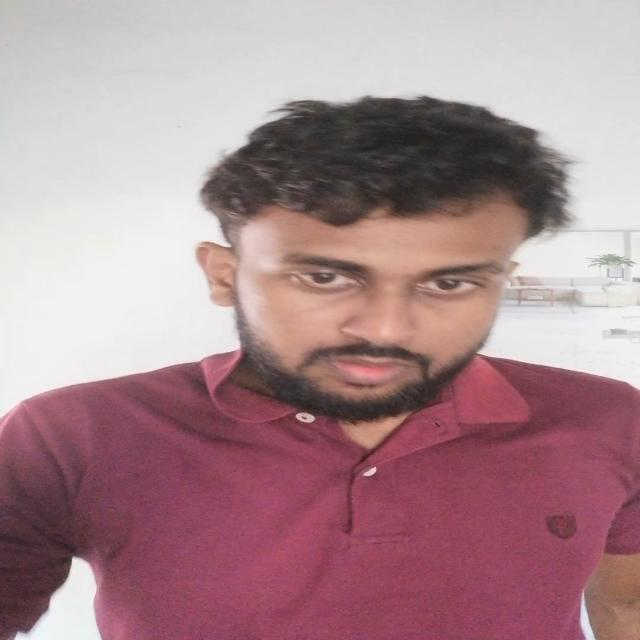Person: (4, 91, 640, 640)
